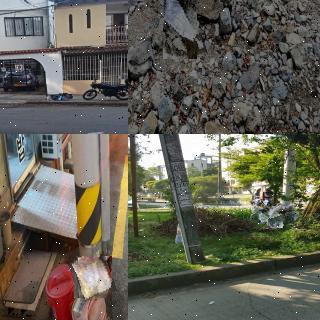Garbage: (157, 0, 202, 60), (71, 254, 115, 301), (268, 203, 298, 223), (266, 214, 284, 229), (257, 212, 269, 224), (62, 94, 73, 100), (50, 95, 58, 101), (57, 95, 63, 100)
